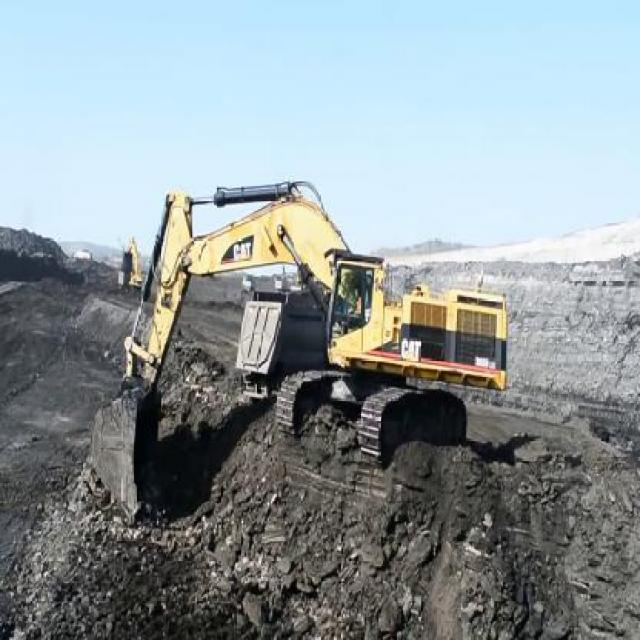Dump Truck: (238, 268, 336, 424)
Excavator: (89, 172, 509, 514)
